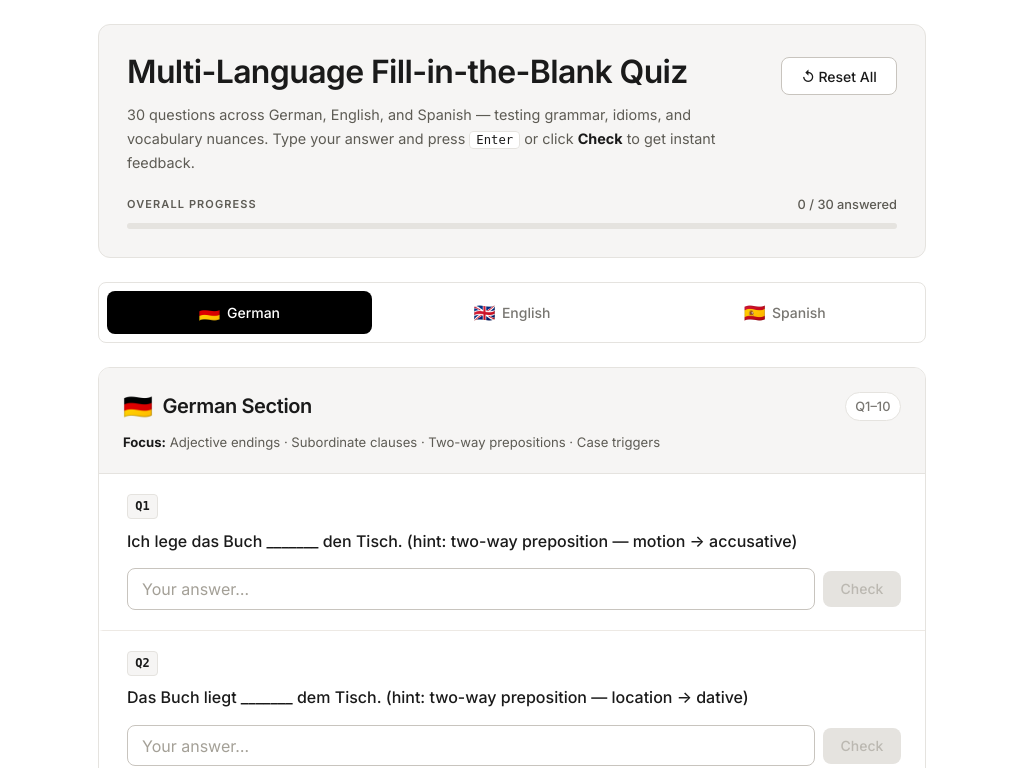
Test case: QuizPage › Group 2 — Tab Navigation › clicking the Spanish tab shows Q21
Click the tab "🇪🇸 Spanish": (785, 312) [652,290,917,334]
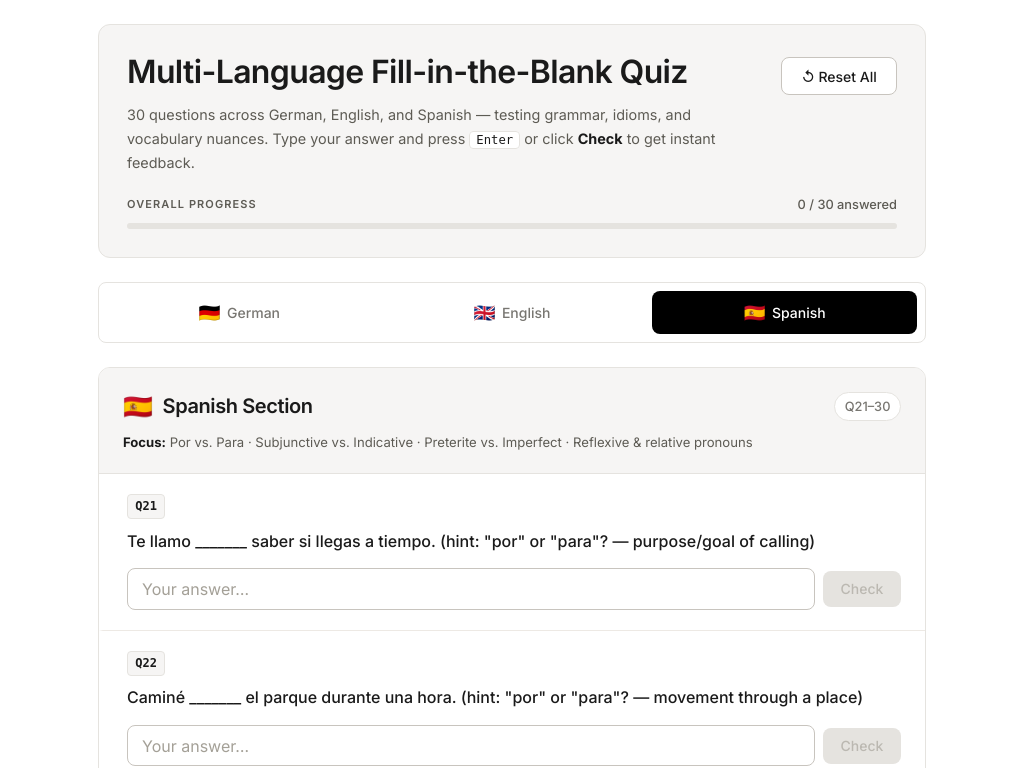
Check: the text "Q21" is shown, box [127,494,165,519]
